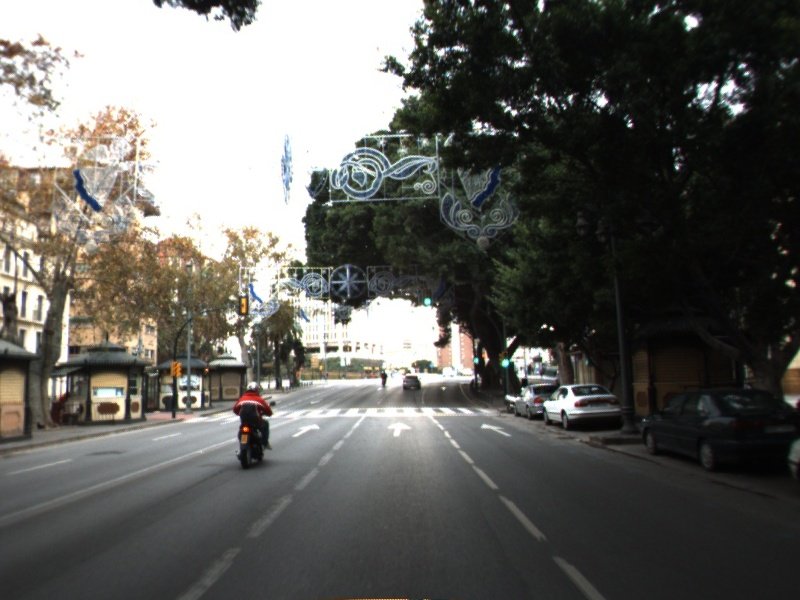STRAIGHT: (478, 421, 514, 439), (289, 421, 322, 439), (385, 420, 414, 438)
